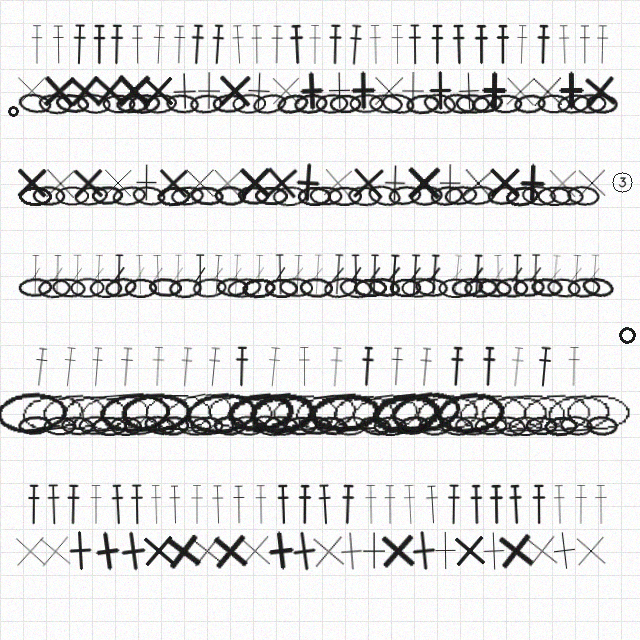chain: (160, 386, 236, 440), (388, 387, 463, 438), (184, 389, 258, 437), (290, 388, 362, 437), (348, 389, 421, 437), (369, 389, 442, 437), (17, 389, 89, 437), (225, 389, 297, 437), (434, 389, 506, 436), (78, 390, 151, 436), (98, 390, 171, 436), (308, 390, 381, 436), (247, 389, 318, 436), (412, 389, 483, 436), (456, 391, 529, 435), (39, 390, 110, 435), (544, 390, 614, 435), (120, 391, 191, 435), (478, 391, 549, 435), (0, 390, 69, 435), (520, 391, 592, 434), (329, 391, 399, 435), (204, 391, 275, 434), (270, 392, 341, 434), (143, 392, 214, 433), (60, 392, 129, 434), (498, 392, 568, 433), (564, 392, 633, 433), (250, 412, 288, 439), (366, 182, 403, 209), (251, 91, 288, 117), (275, 91, 311, 117), (441, 91, 478, 116), (322, 275, 359, 300), (17, 91, 53, 116), (380, 91, 416, 116), (103, 275, 139, 300), (580, 275, 616, 300), (142, 413, 178, 438), (226, 276, 263, 300), (422, 91, 457, 116), (470, 91, 505, 116), (367, 275, 402, 300), (37, 92, 73, 116), (142, 92, 178, 116), (556, 92, 592, 116), (73, 184, 109, 208), (111, 184, 147, 208), (131, 184, 167, 208), (504, 184, 540, 208), (338, 276, 374, 300), (438, 414, 475, 437), (358, 414, 393, 438), (492, 414, 527, 438), (54, 92, 90, 115), (387, 184, 423, 207), (429, 184, 465, 207), (443, 184, 479, 207), (521, 184, 557, 207), (123, 414, 159, 437), (76, 92, 111, 115), (127, 92, 162, 115), (293, 92, 328, 115), (409, 184, 444, 207), (461, 184, 496, 207), (486, 184, 521, 207), (414, 276, 449, 299), (450, 276, 485, 299), (559, 414, 594, 437), (272, 185, 308, 207), (454, 415, 490, 437), (566, 184, 600, 207), (397, 414, 431, 437), (115, 93, 150, 115), (165, 93, 200, 115), (189, 93, 224, 115), (368, 93, 403, 115), (405, 93, 440, 115), (156, 185, 191, 207), (170, 185, 205, 207), (189, 185, 224, 207), (347, 185, 382, 207), (549, 185, 584, 207), (37, 277, 72, 299), (51, 277, 86, 299), (168, 277, 203, 299), (192, 277, 227, 299), (241, 277, 276, 299), (477, 277, 512, 299), (546, 277, 581, 299), (60, 415, 95, 437), (333, 415, 368, 437), (543, 415, 578, 437), (513, 93, 547, 115), (315, 415, 349, 437), (349, 93, 384, 114), (455, 93, 490, 114), (572, 93, 607, 114), (70, 277, 105, 298), (401, 277, 436, 298), (463, 277, 498, 298), (17, 415, 52, 436), (177, 415, 212, 436), (264, 415, 299, 436), (212, 93, 246, 114), (232, 93, 266, 114), (315, 93, 349, 114), (585, 93, 619, 114), (32, 185, 66, 206), (18, 277, 52, 298), (148, 277, 182, 298), (279, 277, 313, 298), (299, 277, 333, 298), (495, 277, 529, 298), (512, 277, 546, 298), (530, 277, 564, 298), (567, 277, 601, 298), (78, 415, 112, 436), (231, 415, 265, 436), (298, 415, 332, 436), (418, 415, 452, 436), (585, 415, 619, 436), (327, 186, 362, 206), (537, 186, 572, 206), (438, 278, 473, 298), (92, 416, 127, 436), (508, 416, 543, 436), (91, 185, 124, 206), (214, 185, 247, 206), (237, 185, 270, 206), (216, 277, 249, 298), (157, 415, 190, 436), (213, 415, 246, 436), (102, 94, 136, 114), (489, 94, 523, 114), (537, 94, 571, 114), (18, 186, 52, 206), (55, 186, 89, 206), (254, 186, 288, 206), (297, 186, 331, 206), (309, 186, 343, 206), (89, 278, 123, 298), (124, 278, 158, 298), (264, 278, 298, 298), (353, 278, 387, 298), (43, 416, 77, 436), (190, 416, 224, 436), (284, 416, 318, 436), (373, 416, 407, 436), (474, 416, 508, 436), (329, 94, 362, 114), (389, 278, 422, 298), (109, 416, 142, 436), (525, 416, 558, 436)
double: (546, 254, 564, 296), (448, 254, 465, 296), (90, 254, 106, 295), (309, 254, 325, 295), (330, 254, 346, 295), (386, 254, 402, 295), (407, 254, 423, 295), (568, 254, 584, 295), (586, 254, 602, 295), (50, 254, 65, 295), (150, 254, 165, 295), (210, 254, 225, 295), (229, 254, 244, 295), (290, 254, 305, 295), (367, 254, 382, 295), (427, 254, 442, 295), (470, 254, 485, 295), (491, 254, 506, 295), (528, 254, 543, 295), (70, 254, 84, 295), (112, 254, 126, 295), (133, 254, 147, 295), (171, 254, 185, 295), (193, 254, 207, 295), (252, 254, 266, 295), (273, 254, 287, 295), (349, 254, 363, 295), (510, 254, 524, 295), (29, 254, 42, 295)
half_double: (59, 346, 79, 388), (507, 346, 527, 388), (31, 346, 50, 388), (117, 346, 136, 388), (264, 346, 283, 388), (416, 346, 435, 388), (535, 346, 554, 388), (346, 24, 364, 66), (88, 346, 106, 388), (177, 346, 195, 388), (205, 346, 223, 388), (327, 346, 345, 388), (188, 24, 206, 65), (229, 24, 247, 65), (149, 346, 167, 387), (316, 484, 334, 525), (423, 484, 441, 525), (71, 24, 88, 65), (108, 24, 125, 65), (150, 24, 167, 65), (209, 24, 226, 65), (288, 24, 305, 65), (367, 24, 384, 65), (450, 24, 467, 65), (233, 346, 250, 387), (359, 346, 376, 387), (388, 346, 405, 387), (448, 346, 465, 387), (480, 346, 497, 387), (45, 484, 62, 525), (109, 484, 126, 525), (339, 484, 356, 525), (401, 484, 418, 525), (507, 484, 524, 525), (551, 484, 568, 525), (29, 24, 45, 65), (50, 24, 66, 65), (91, 24, 107, 65), (129, 24, 145, 65), (171, 24, 187, 65), (269, 24, 285, 65), (307, 24, 323, 65), (327, 24, 343, 65), (389, 24, 405, 65), (407, 24, 423, 65), (429, 24, 445, 65), (473, 24, 489, 65), (514, 24, 530, 65), (535, 24, 551, 65), (556, 24, 572, 65), (296, 346, 312, 387), (566, 346, 582, 387), (65, 484, 81, 525), (88, 484, 104, 525), (129, 484, 145, 525), (148, 484, 164, 525), (167, 484, 183, 525), (189, 484, 205, 525), (210, 484, 226, 525), (253, 484, 269, 525), (275, 484, 291, 525), (363, 484, 379, 525), (382, 484, 398, 525), (488, 484, 504, 525), (531, 484, 547, 525), (573, 484, 589, 525), (593, 484, 609, 525), (249, 24, 264, 65), (495, 24, 510, 65), (577, 24, 592, 65), (595, 24, 610, 65), (26, 484, 41, 525), (231, 484, 246, 525), (297, 484, 312, 525), (446, 484, 461, 525), (469, 484, 484, 525)
noise: (610, 170, 634, 194), (616, 324, 638, 346), (7, 105, 19, 117)
single: (84, 528, 130, 574), (110, 528, 156, 574), (160, 528, 206, 574), (281, 528, 327, 574), (184, 528, 229, 573), (258, 528, 303, 573), (401, 528, 446, 573), (493, 528, 538, 573), (519, 528, 564, 573), (542, 528, 587, 573), (578, 69, 622, 113), (33, 529, 77, 573), (208, 529, 252, 573), (306, 529, 350, 573), (329, 529, 373, 573), (63, 69, 106, 112), (88, 69, 131, 112), (260, 161, 303, 204), (286, 161, 329, 204), (316, 161, 359, 204), (456, 161, 499, 204), (59, 529, 102, 572), (137, 529, 180, 572), (233, 529, 276, 572), (376, 529, 419, 572), (448, 529, 491, 572), (569, 529, 612, 572), (38, 70, 80, 112), (137, 70, 179, 112), (163, 70, 205, 112), (238, 70, 280, 112), (291, 70, 333, 112), (448, 70, 490, 112), (499, 70, 541, 112), (526, 70, 568, 112), (39, 162, 81, 204), (67, 162, 109, 204), (152, 162, 194, 204), (206, 162, 248, 204), (347, 162, 389, 204), (374, 162, 416, 204), (511, 162, 553, 204), (541, 162, 583, 204), (9, 530, 51, 572), (473, 530, 515, 572), (11, 70, 52, 111), (113, 70, 154, 111), (188, 70, 229, 111), (214, 70, 255, 111), (265, 70, 306, 111), (319, 70, 360, 111), (343, 70, 384, 111), (368, 70, 409, 111), (392, 70, 433, 111), (420, 70, 461, 111), (474, 70, 515, 111), (551, 70, 592, 111), (11, 162, 52, 203), (97, 162, 138, 203), (126, 162, 167, 203), (179, 162, 220, 203), (234, 162, 275, 203), (403, 162, 444, 203), (429, 162, 470, 203), (484, 162, 525, 203), (571, 162, 612, 203), (353, 530, 394, 571), (425, 530, 466, 571)
